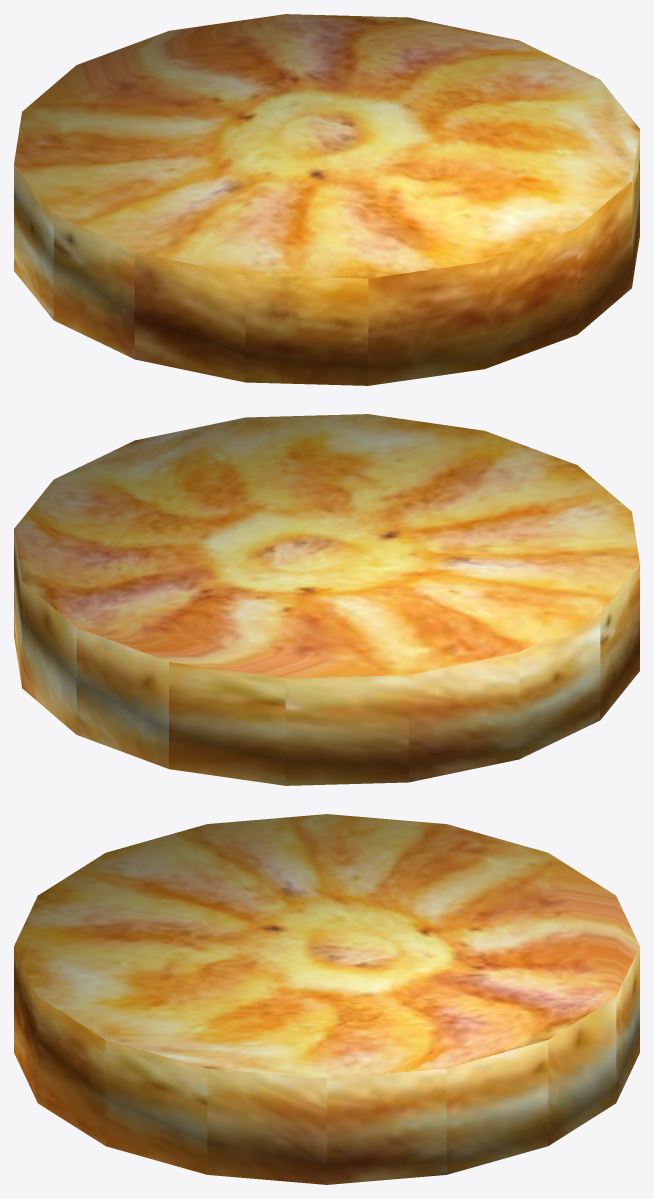
File: Gukwa_ppang.fbx
3 renders of one model, top to bottom at view 1: azimuth 30°, elevation 25°; view 2: azimuth 150°, elevation 25°; view 3: azimuth 270°, elevation 25°, orthographic.
Parts seen in each view (by area): view 1: Cylinder; view 2: Cylinder; view 3: Cylinder.
Part boxes in pixels (x1,y1,x2,y2): Cylinder: (14,14,639,385); Cylinder: (14,414,639,785); Cylinder: (14,814,639,1184).
Size of the model in its own units: 103 by 19.4 by 103.
1 material, 1 textured.
